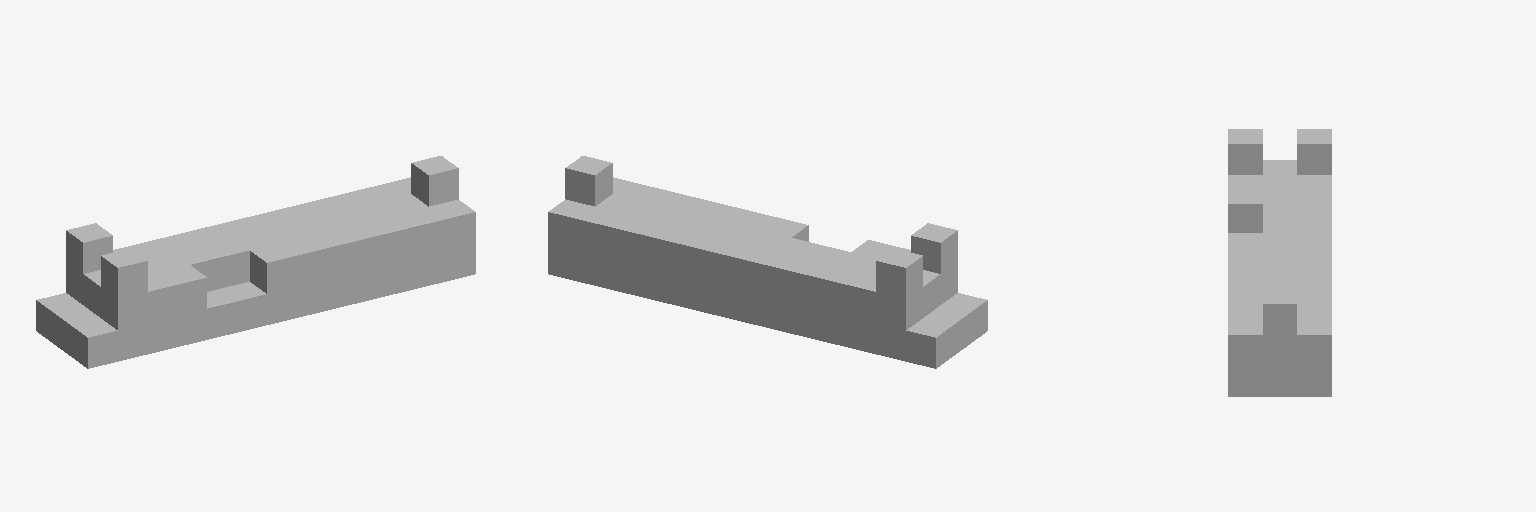
Rendered from Weapons-19-1911 Slide.obj.
3 renders of one model, left to right at view 1: azimuth 30°, elevation 25°; view 2: azimuth 150°, elevation 25°; view 3: azimuth 270°, elevation 25°, orthographic.
Visible parts, largest first — view 1: 1911 Slide; view 2: 1911 Slide; view 3: 1911 Slide.
Boxes of the visible parts, x1=… form: 1911 Slide: x1=36, y1=156, x2=475, y2=368; 1911 Slide: x1=548, y1=156, x2=987, y2=368; 1911 Slide: x1=1228, y1=129, x2=1331, y2=396.
Bounding box in the file's own units: 1.3 × 0.3 × 0.3.